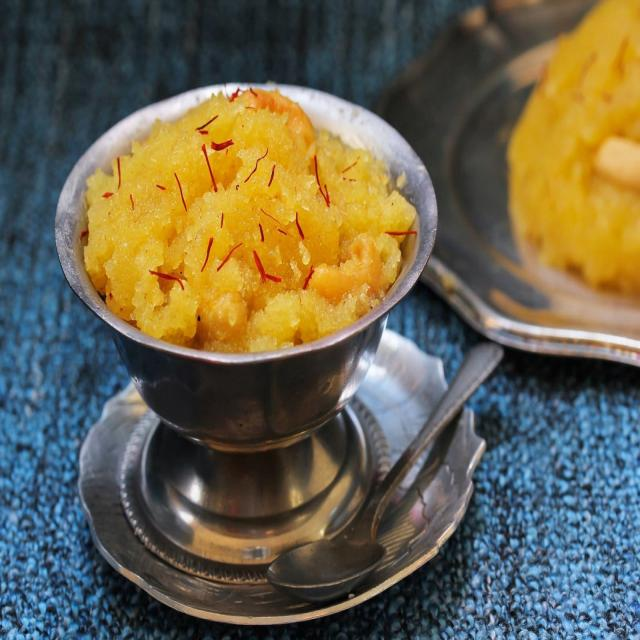kesari bath: (73, 64, 430, 384), (505, 1, 640, 310)
